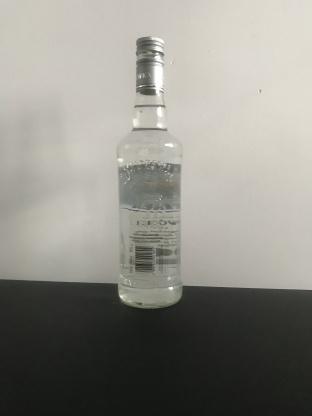nakretka: (134, 34, 165, 96)
